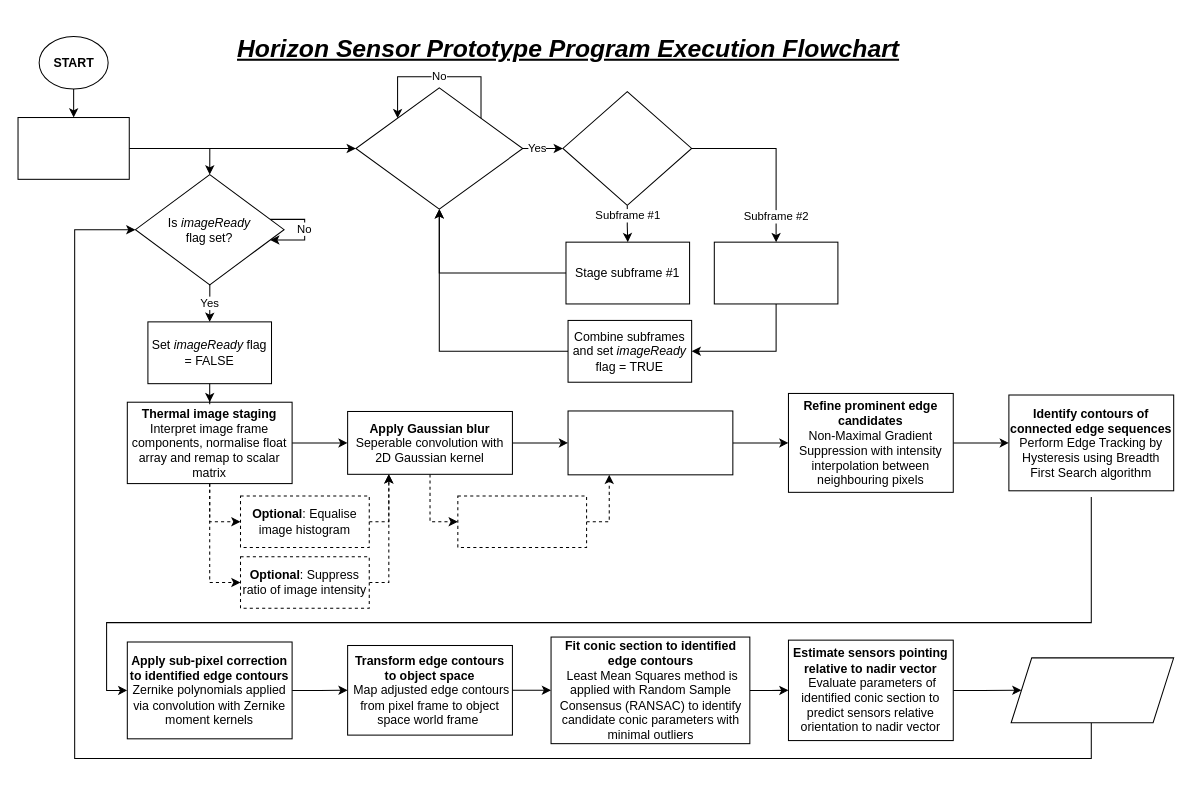
Image size: 1192x785. Some labels were removed from this diagram. Here are the shapes that lost their labels. From the top down, the box of each, then its label:
(17, 116, 129, 179): Initialise device and configure thermal camera
(355, 87, 523, 209): I2C Interrupt: New thermal image subframe received?
(562, 91, 692, 205): Which subframe was received?
(713, 241, 838, 304): Stage subframe #2
(567, 410, 733, 475): Identify pixel level edge guesses Canny edge detection using Sobel kernel
(457, 495, 587, 547): Optional : Dynamic Canny thresholds via Otsu's method
(1010, 657, 1174, 723): Output Send results to external serial
